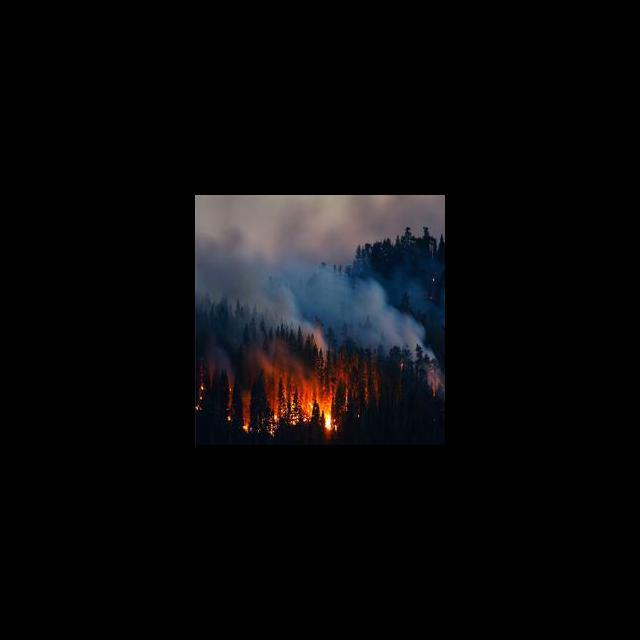Fire: (323, 412, 337, 430), (301, 402, 314, 421), (242, 421, 249, 431), (272, 414, 278, 421)
Smoke: (196, 195, 425, 353)
